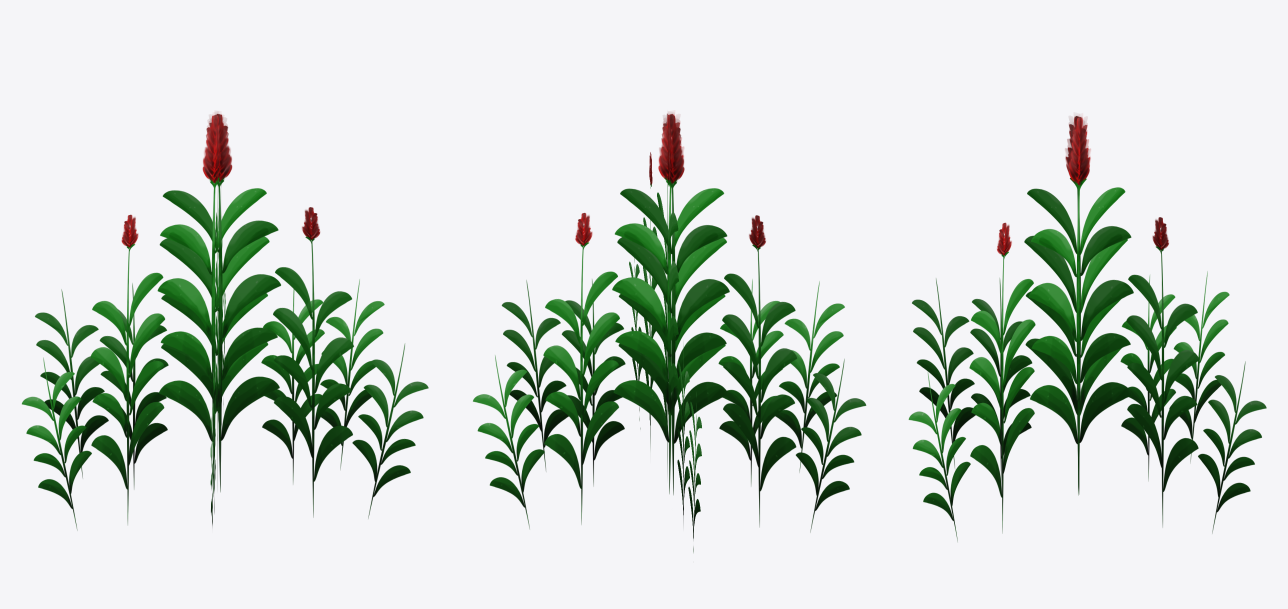
The model's file is grassbushred.glb.
3 views of the same model, side by side, from view 1: azimuth 30°, elevation 25°; view 2: azimuth 150°, elevation 25°; view 3: azimuth 270°, elevation 25° (orthographic).
Visible parts, largest first — view 1: Plane.005; view 2: Plane.005; view 3: Plane.005.
Part boxes in pixels (x1=…): Plane.005: x1=22, y1=112, x2=428, y2=530; Plane.005: x1=473, y1=112, x2=866, y2=552; Plane.005: x1=908, y1=115, x2=1266, y2=541.
Size of the model in its own units: 2 by 2 by 1.7.
Materials: 1 (1 with a texture image).
